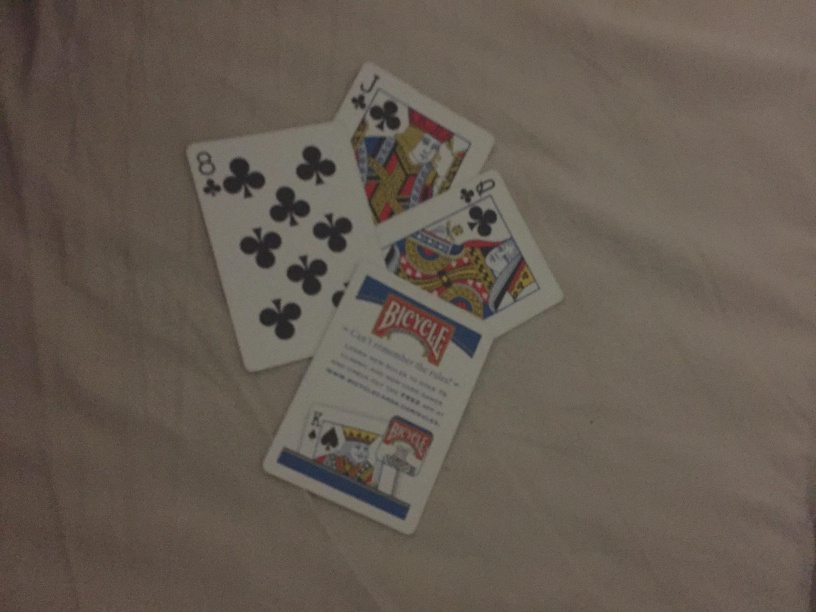8: (179, 118, 393, 374)
jack: (331, 53, 498, 225)
queen: (376, 169, 566, 344)
